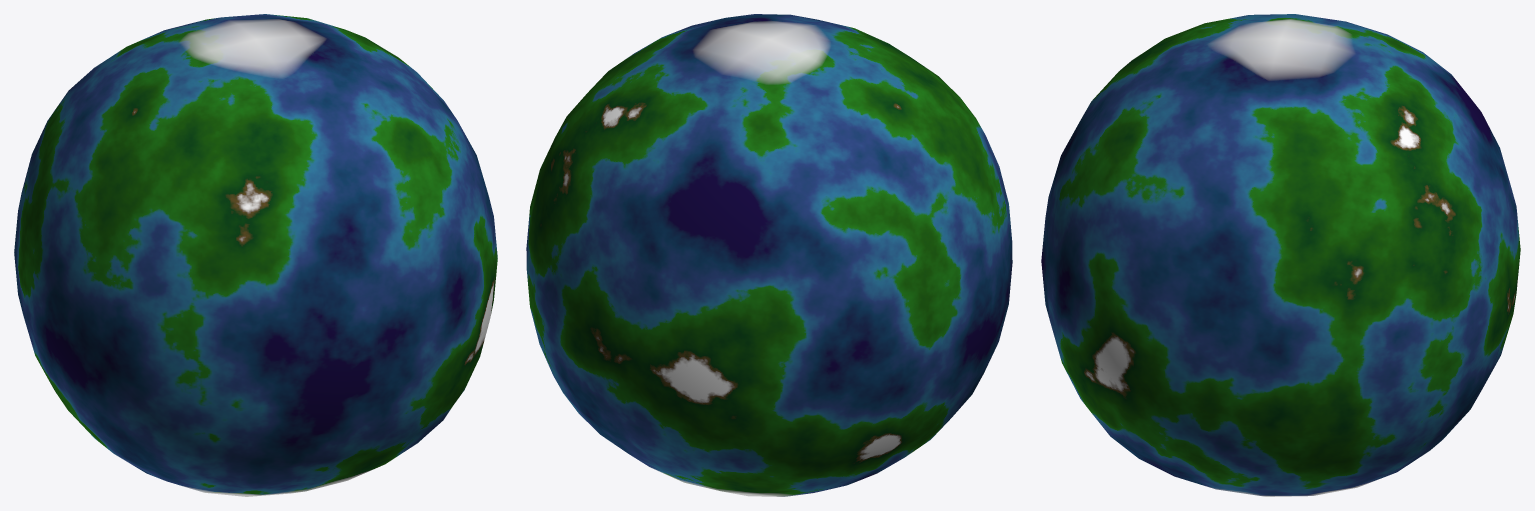
File: Planet_Earth.fbx
3 views of the same model, side by side, from view 1: azimuth 30°, elevation 25°; view 2: azimuth 150°, elevation 25°; view 3: azimuth 270°, elevation 25° (orthographic).
Visible parts, largest first — view 1: Earth Model; view 2: Earth Model; view 3: Earth Model.
Part boxes in pixels (x1=…): Earth Model: x1=14, y1=14, x2=497, y2=496; Earth Model: x1=526, y1=14, x2=1012, y2=496; Earth Model: x1=1041, y1=14, x2=1520, y2=496.
Bounding box in the file's own units: 6.68 × 6.64 × 6.66.
